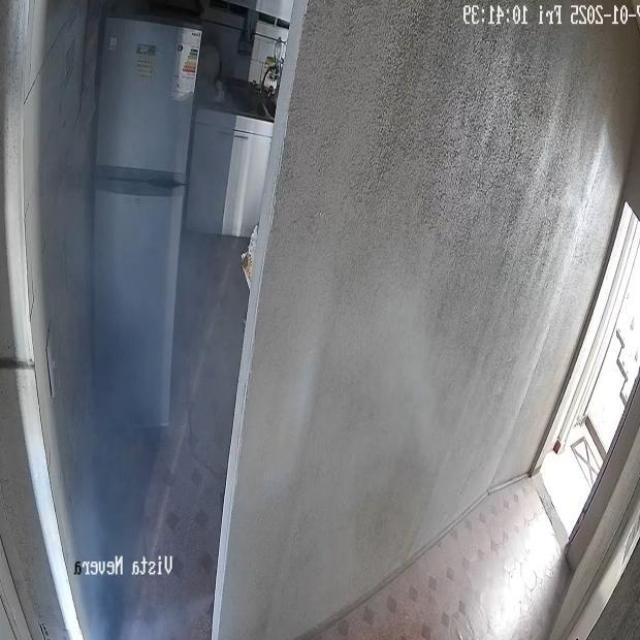fire: (36, 85, 250, 640)
